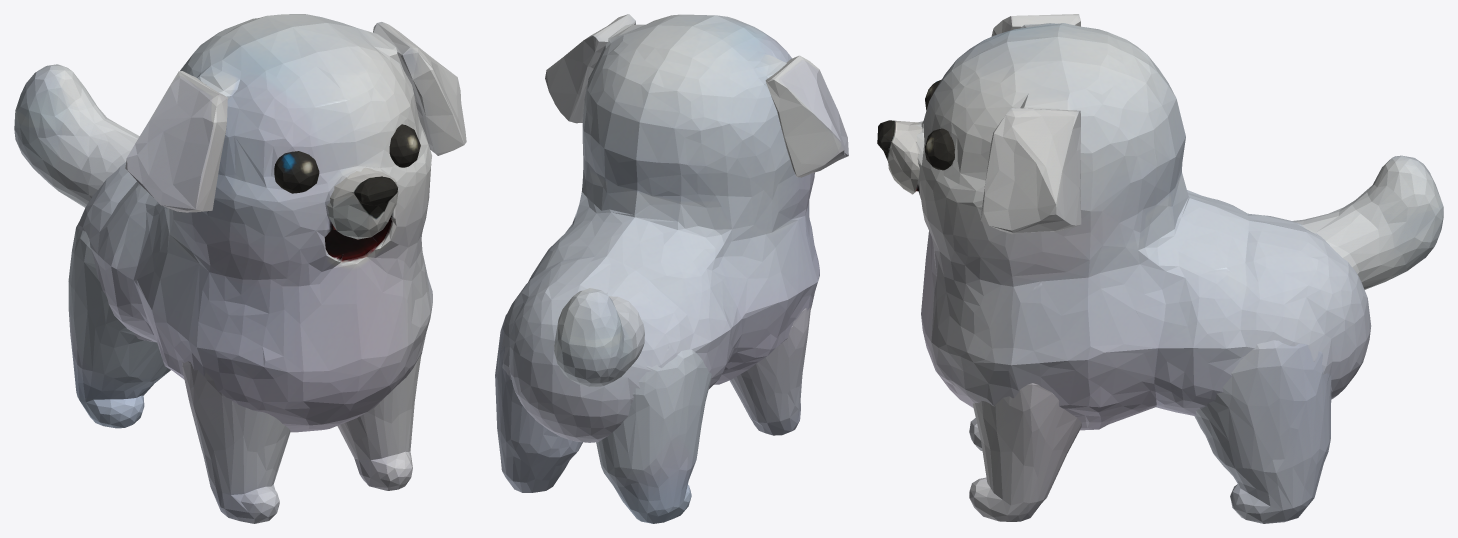
The model's file is ghost-hound.glb.
The picture shows the model from 3 angles, left to right: view 1: azimuth 30°, elevation 25°; view 2: azimuth 150°, elevation 25°; view 3: azimuth 270°, elevation 25°; orthographic projection. The views are drawn at different scales.
Parts seen in each view (by area): view 1: GhostHound_body, GhostHound_head, GhostHound_tail, GhostHound_rear left leg, GhostHound_front left leg, GhostHound_front right leg; view 2: GhostHound_body, GhostHound_rear left leg, GhostHound_head, GhostHound_tail, GhostHound_rear right leg, GhostHound_front left leg; view 3: GhostHound_body, GhostHound_rear right leg, GhostHound_head, GhostHound_tail, GhostHound_front right leg.
Boxes of the visible parts, x1,y1,x2,y2 form: GhostHound_body: [77, 14, 432, 432]; GhostHound_head: [125, 22, 466, 239]; GhostHound_tail: [14, 64, 139, 207]; GhostHound_rear left leg: [68, 222, 170, 428]; GhostHound_front left leg: [182, 361, 290, 523]; GhostHound_front right leg: [337, 355, 421, 490]; GhostHound_body: [501, 14, 819, 442]; GhostHound_rear left leg: [596, 349, 711, 523]; GhostHound_head: [545, 14, 848, 177]; GhostHound_tail: [554, 288, 644, 386]; GhostHound_rear right leg: [495, 314, 582, 492]; GhostHound_front left leg: [729, 303, 811, 435]; GhostHound_body: [915, 23, 1371, 430]; GhostHound_rear right leg: [1194, 340, 1331, 523]; GhostHound_head: [877, 14, 1081, 234]; GhostHound_tail: [1293, 155, 1443, 289]; GhostHound_front right leg: [969, 383, 1081, 521].
Size of the model in its own units: 4 by 5.16 by 5.96.
Materials: 7 (7 with a texture image).
